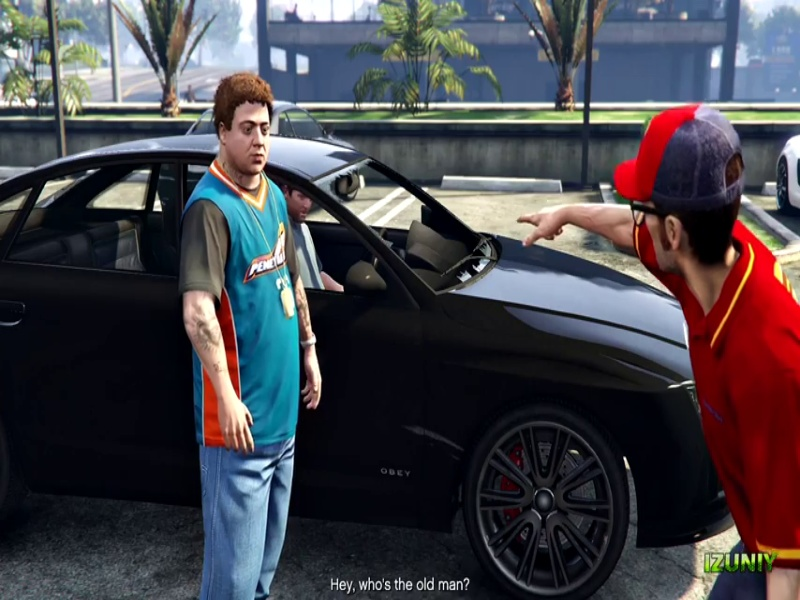human: (184, 78, 338, 591)
